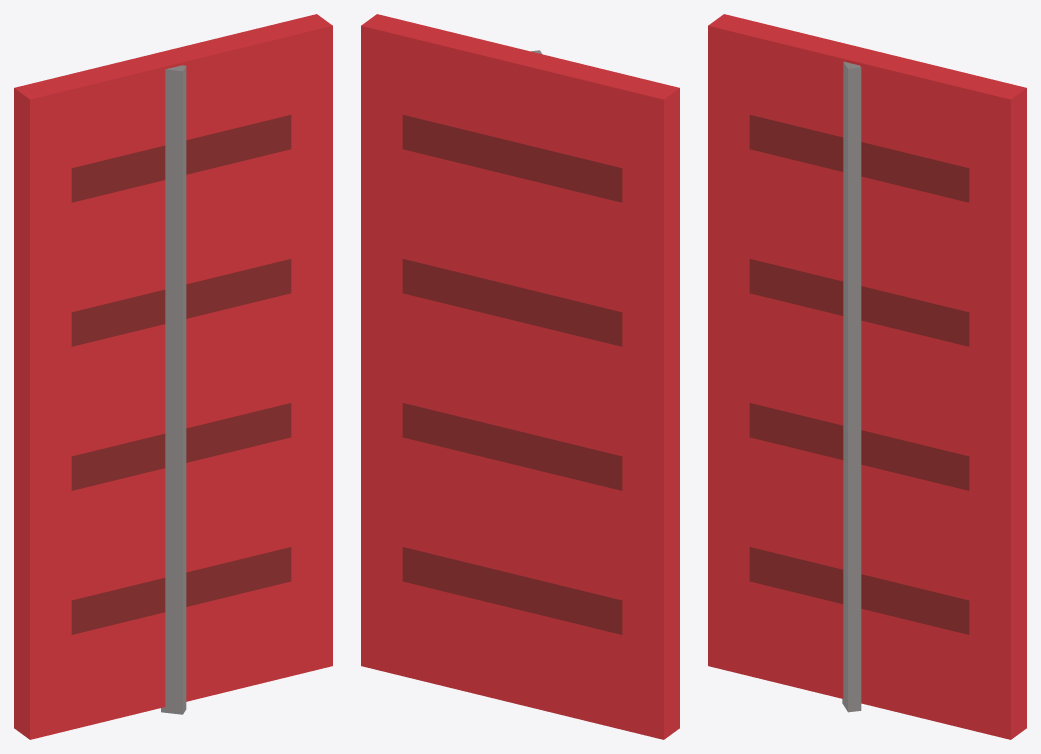
Rendered from cargo-shipping-door_L_red.glb.
3 renders of one model, left to right at view 1: azimuth 30°, elevation 25°; view 2: azimuth 150°, elevation 25°; view 3: azimuth 330°, elevation 25°, orthographic.
Parts seen in each view (by area): view 1: cargo-shipping-door_L_red; view 2: cargo-shipping-door_L_red; view 3: cargo-shipping-door_L_red.
Part boxes in pixels (box(x1,y1,x2,y2)): cargo-shipping-door_L_red: box(14, 14, 332, 739); cargo-shipping-door_L_red: box(361, 14, 679, 739); cargo-shipping-door_L_red: box(708, 14, 1026, 739).
Bounding box in the file's own units: 1.09 × 2.22 × 0.1398.
Materials: 1 (1 with a texture image).
